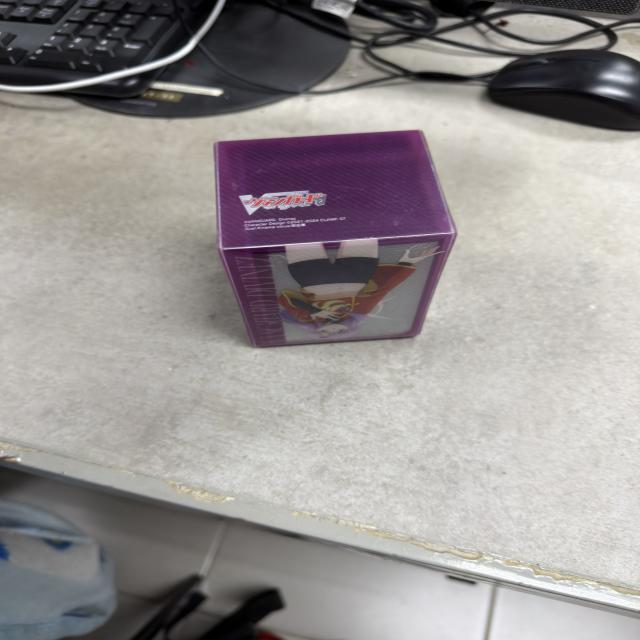box: (211, 128, 458, 351)
